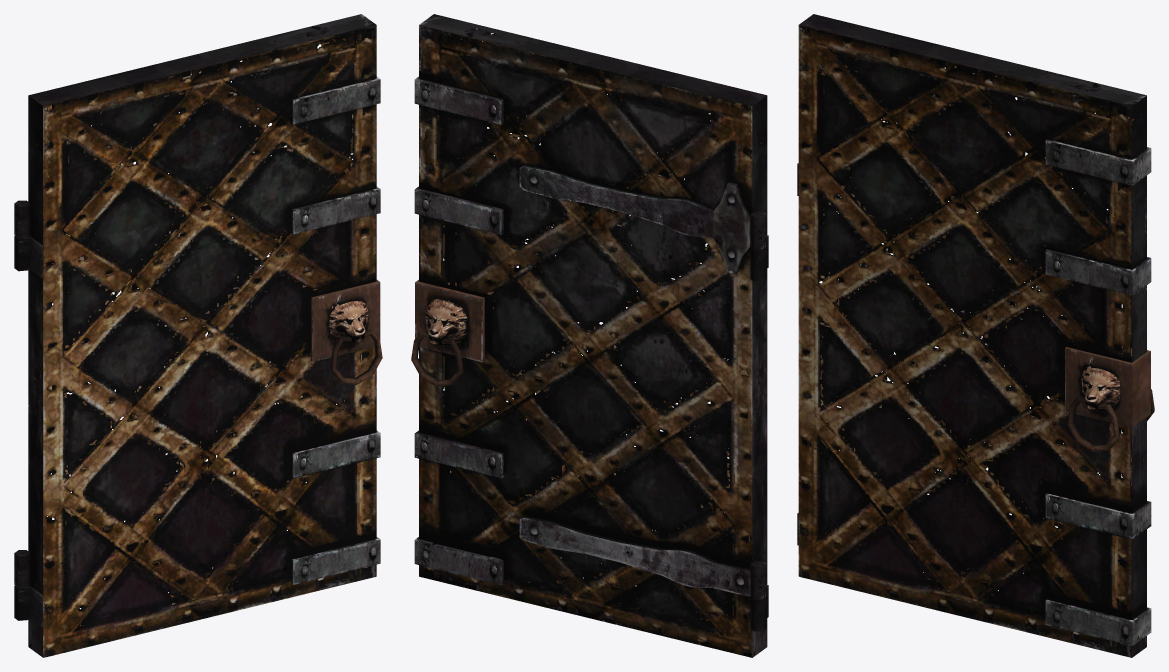
File: metal.dae
3 renders of one model, left to right at view 1: azimuth 30°, elevation 25°; view 2: azimuth 150°, elevation 25°; view 3: azimuth 330°, elevation 25°, orthographic.
Parts seen in each view (by area): view 1: group1, hinge; view 2: group1, hinge; view 3: group1.
Part boxes in pixels (box(x1,y1,x2,y2)): group1: box(14, 14, 382, 657); hinge: box(14, 236, 42, 627); group1: box(411, 14, 767, 657); hinge: box(750, 235, 768, 631); group1: box(798, 14, 1154, 657).
Size of the model in its own units: 1.81 by 0.4127 by 2.74.
